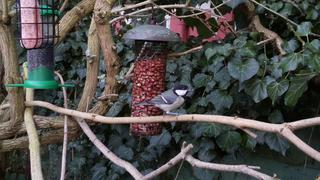great tit: (134, 84, 194, 121)
